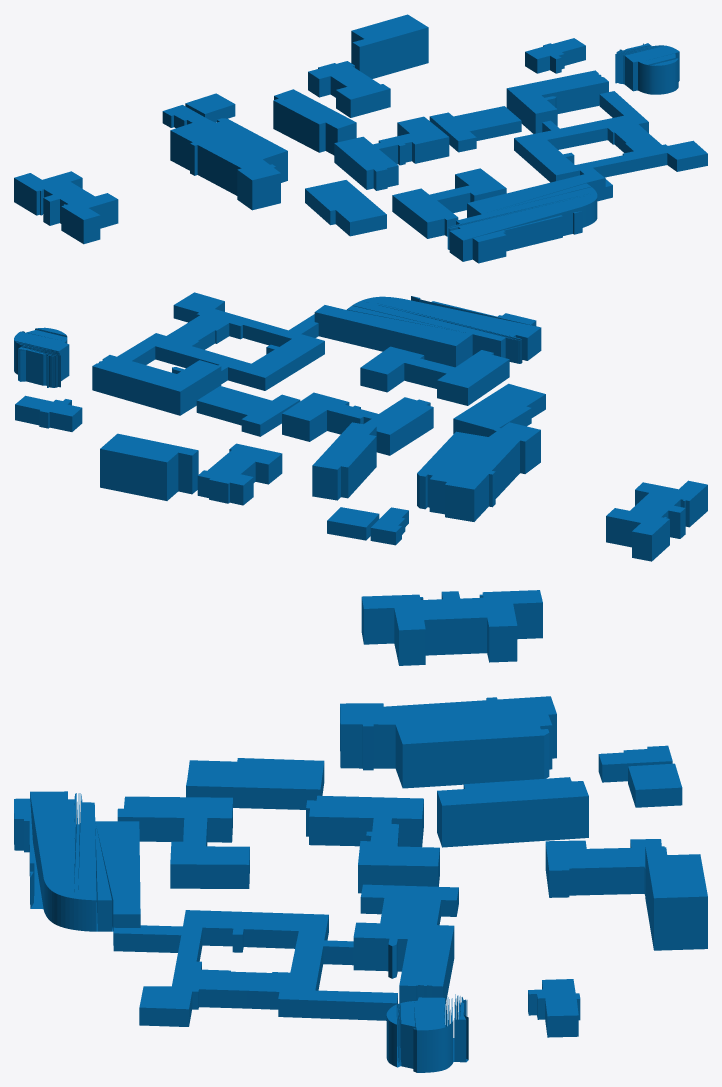
Rendered from CLADIRI 3D.fbx.
The picture shows the model from 3 angles, top to bottom: view 1: azimuth 30°, elevation 25°; view 2: azimuth 150°, elevation 25°; view 3: azimuth 270°, elevation 25°; orthographic projection. The views are drawn at different scales.
Parts seen in each view (by area): view 1: Curve.009, Curve.018, Curve.013, Curve.001, Curve.008, Curve.017, Curve.011, Curve.004, Curve.012, Curve, Curve.014, Curve.016 (+4 smaller); view 2: Curve.009, Curve.018, Curve.013, Curve.001, Curve.011, Curve.008, Curve.017, Curve.004, Curve.012, Curve, Curve.014, Curve.007 (+4 smaller); view 3: Curve.018, Curve.013, Curve.009, Curve.008, Curve.012, Curve.001, Curve.011, Curve.004, Curve.014, Curve.017, Curve.016, Curve (+4 smaller).
Part boxes in pixels (box(x1,y1,x2,y2)): Curve.009: box(447, 171, 605, 263); Curve.018: box(514, 91, 707, 198); Curve.013: box(170, 118, 287, 210); Curve.001: box(334, 116, 449, 190); Curve.008: box(14, 171, 118, 244); Curve.017: box(351, 14, 428, 78); Curve.011: box(392, 168, 506, 238); Curve.004: box(506, 70, 608, 133); Curve.012: box(273, 89, 356, 155); Curve: box(308, 61, 390, 117); Curve.014: box(305, 180, 386, 236); Curve.016: box(615, 43, 679, 94); Curve.009: box(314, 296, 541, 367); Curve.018: box(117, 292, 324, 390); Curve.013: box(417, 422, 540, 521); Curve.001: box(282, 392, 433, 455); Curve.011: box(360, 346, 509, 405); Curve.008: box(606, 480, 707, 561); Curve.017: box(100, 433, 198, 500); Curve.004: box(92, 355, 221, 415); Curve.012: box(312, 422, 376, 500); Curve: box(197, 443, 282, 505); Curve.014: box(453, 383, 545, 436); Curve.007: box(196, 386, 300, 436); Curve.018: box(113, 910, 397, 1026); Curve.013: box(340, 696, 556, 788); Curve.009: box(14, 791, 140, 945); Curve.008: box(361, 590, 542, 665); Curve.012: box(437, 777, 588, 847); Curve.001: box(306, 795, 439, 893); Curve.011: box(117, 796, 249, 888); Curve.004: box(353, 922, 454, 1003); Curve.014: box(186, 758, 324, 809); Curve.017: box(645, 846, 707, 950); Curve.016: box(386, 994, 468, 1072); Curve: box(545, 839, 667, 897).
Bounding box in the file's own units: 45942 × 2527 × 30129.
